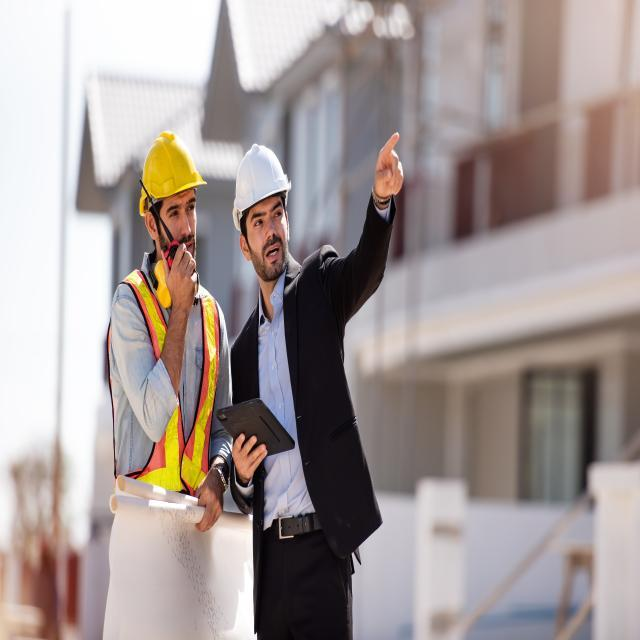helmet: (226, 148, 300, 213), (140, 136, 204, 206)
jacket: (111, 263, 230, 501)
